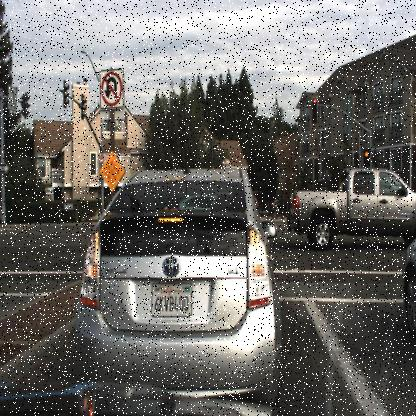car: (67, 154, 282, 396), (287, 168, 416, 254), (397, 217, 415, 348), (266, 196, 289, 215)
trafficLight-Red: (308, 90, 320, 126), (362, 146, 371, 174)
